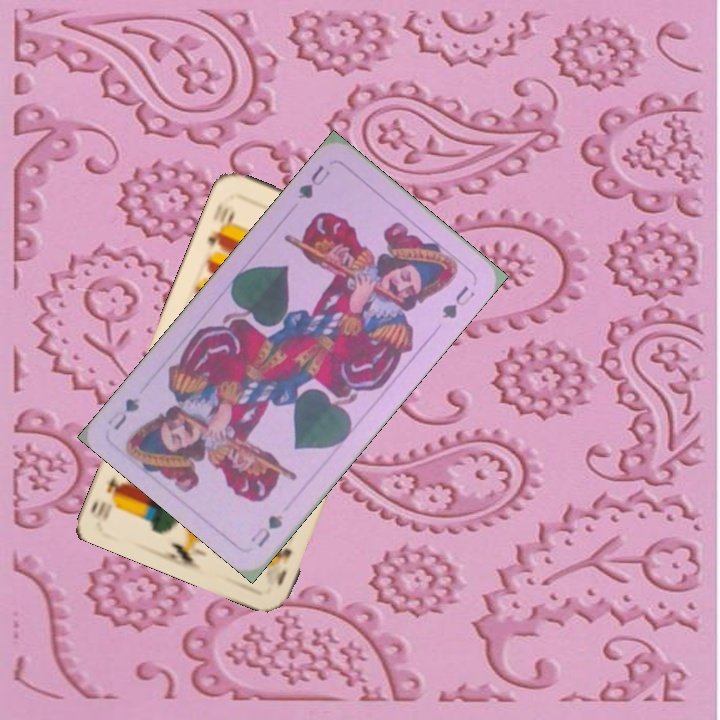E10: (204, 201, 238, 252), (265, 540, 295, 589)
GU: (294, 161, 333, 202), (246, 510, 285, 550)
